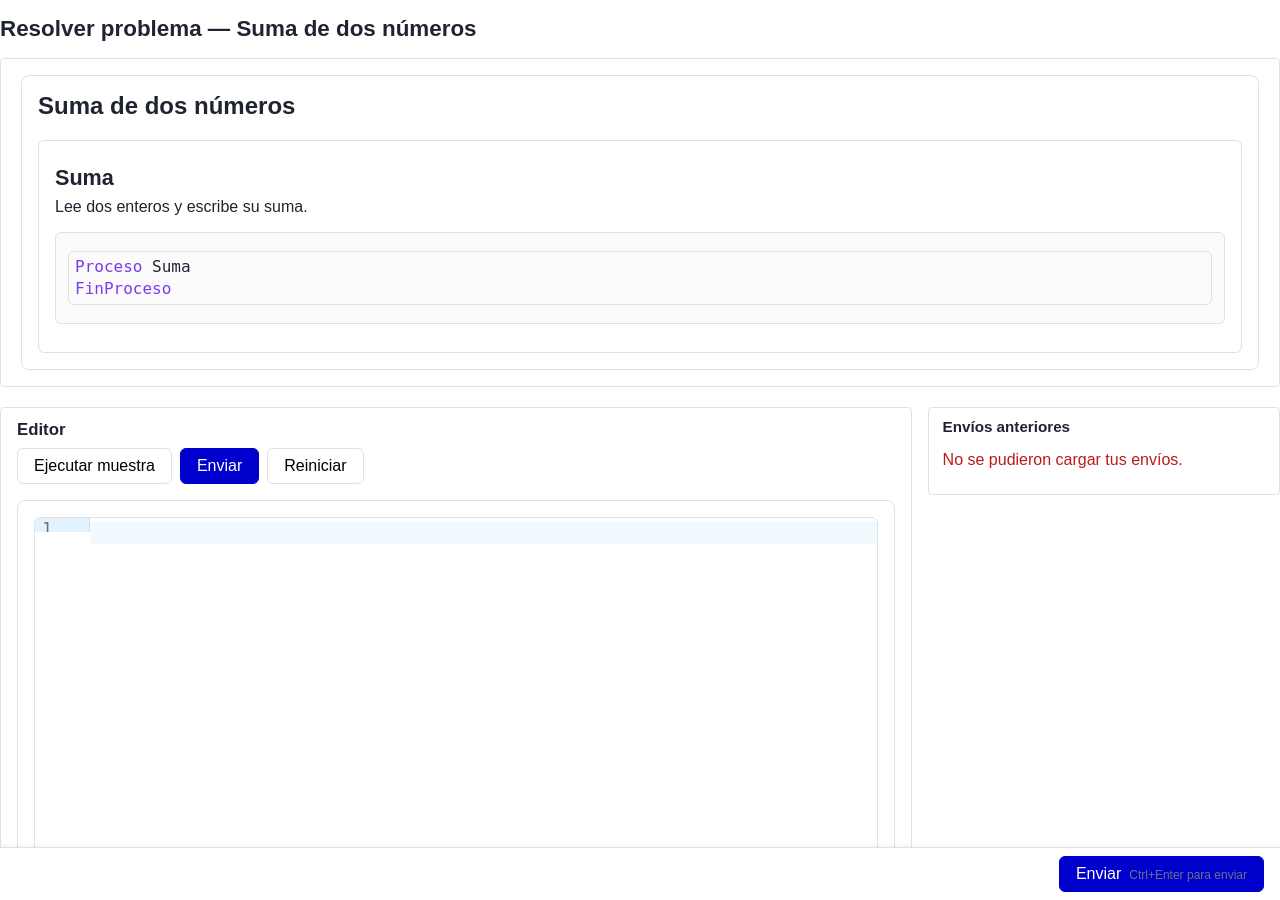
Test: practice sandbox › shows a friendly quota notice when the run POST returns 429
Expected: the heading "Suma de dos números" is shown, 38,92 -> 295,119
Click the button "Ejecutar muestra" at (94, 466), box 17,448 -> 172,484
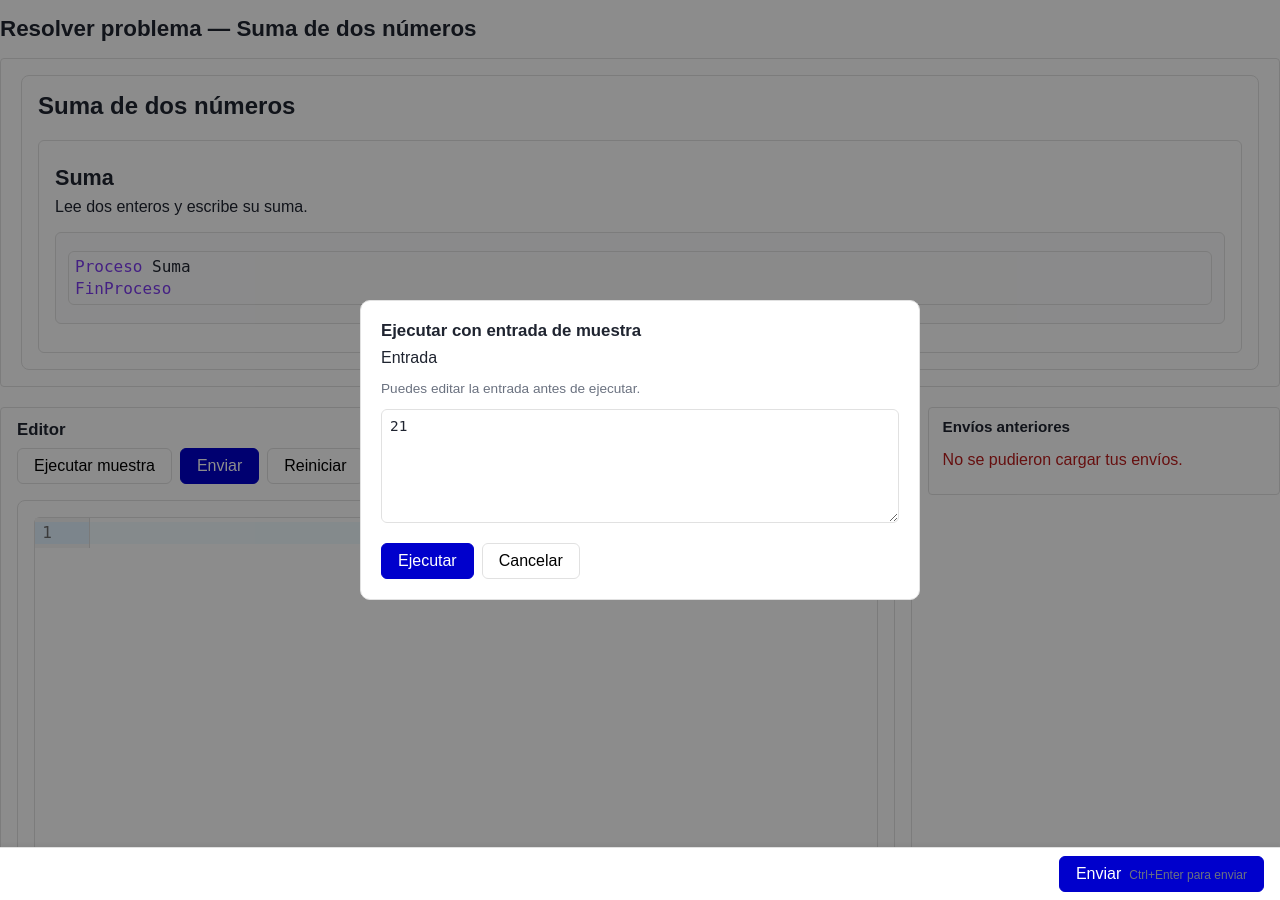
Expected: the dialog is shown, 360,300 -> 920,600
Click the button "Ejecutar" at (427, 561), box 381,543 -> 474,579
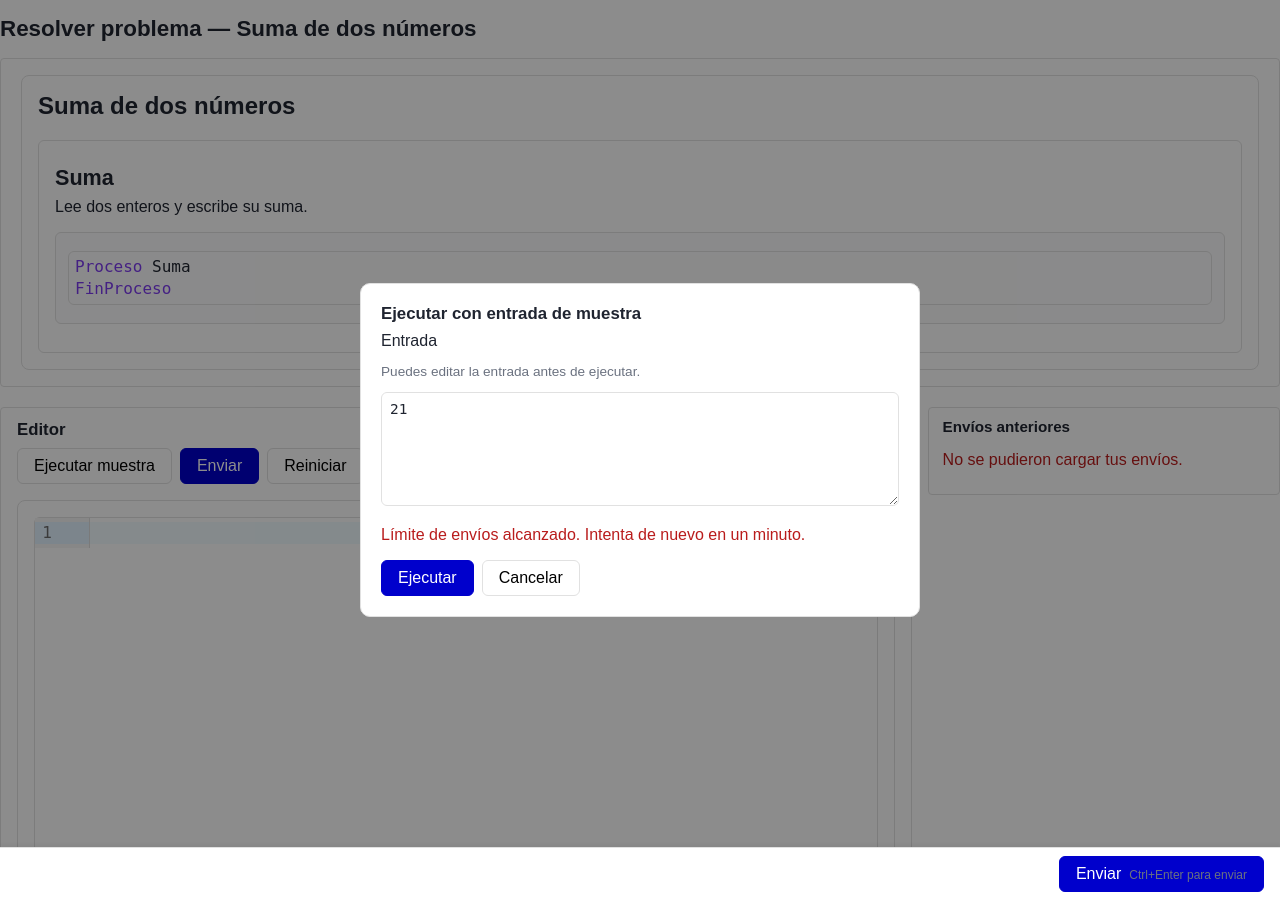
Expected: the dialog is shown, 360,283 -> 920,617
Expected: the text "Límite de envíos alcanzado. Intenta de nuevo en un minuto." is shown, 381,526 -> 805,543
